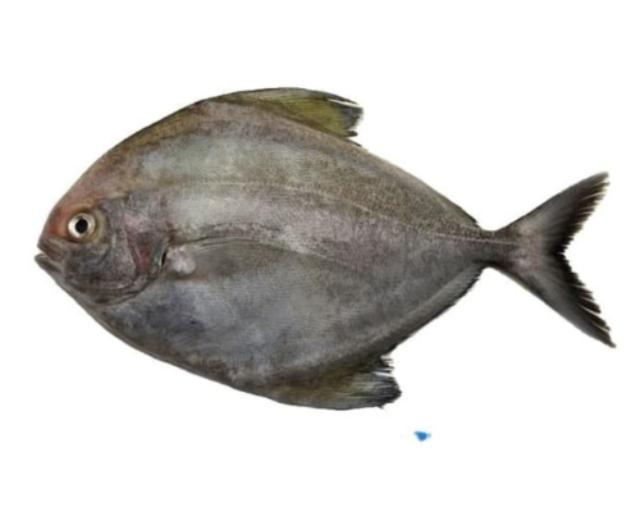Mulut: (18, 223, 70, 289)
Sirip Anal: (382, 262, 478, 340)
Sirip Dada: (152, 228, 386, 308)
Sirip Ekor: (478, 159, 626, 359)
Sirip Perut: (240, 338, 416, 428)
Sirip Punggung: (199, 76, 383, 168)
